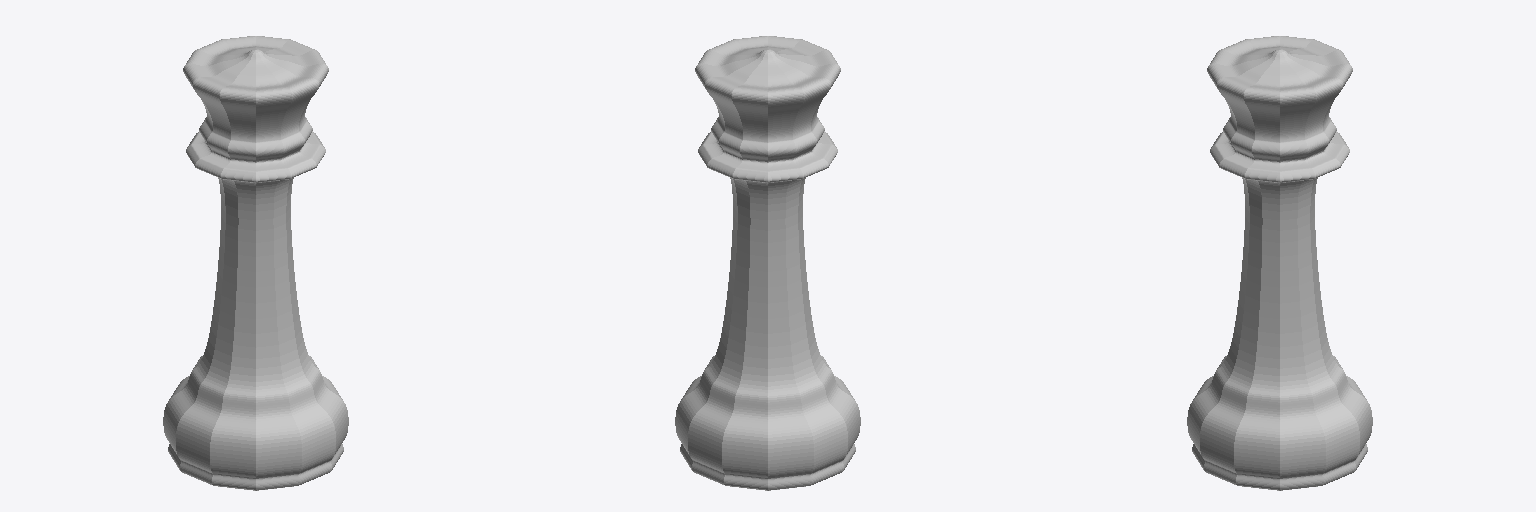
File: Queen.obj
3 renders of one model, left to right at view 1: azimuth 30°, elevation 25°; view 2: azimuth 150°, elevation 25°; view 3: azimuth 270°, elevation 25°, orthographic.
Visible parts, largest first — view 1: Queen_Mesh.005; view 2: Queen_Mesh.005; view 3: Queen_Mesh.005.
Part boxes in pixels (x1,y1,x2,y2): Queen_Mesh.005: (163,36,348,490); Queen_Mesh.005: (675,36,860,490); Queen_Mesh.005: (1187,36,1372,490).
Bounding box in the file's own units: 1.24 × 3.04 × 1.24.